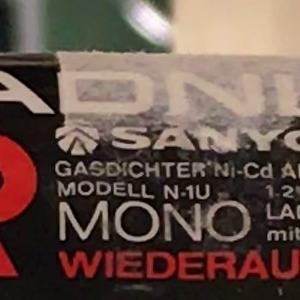keyword: (199, 154, 281, 181)
